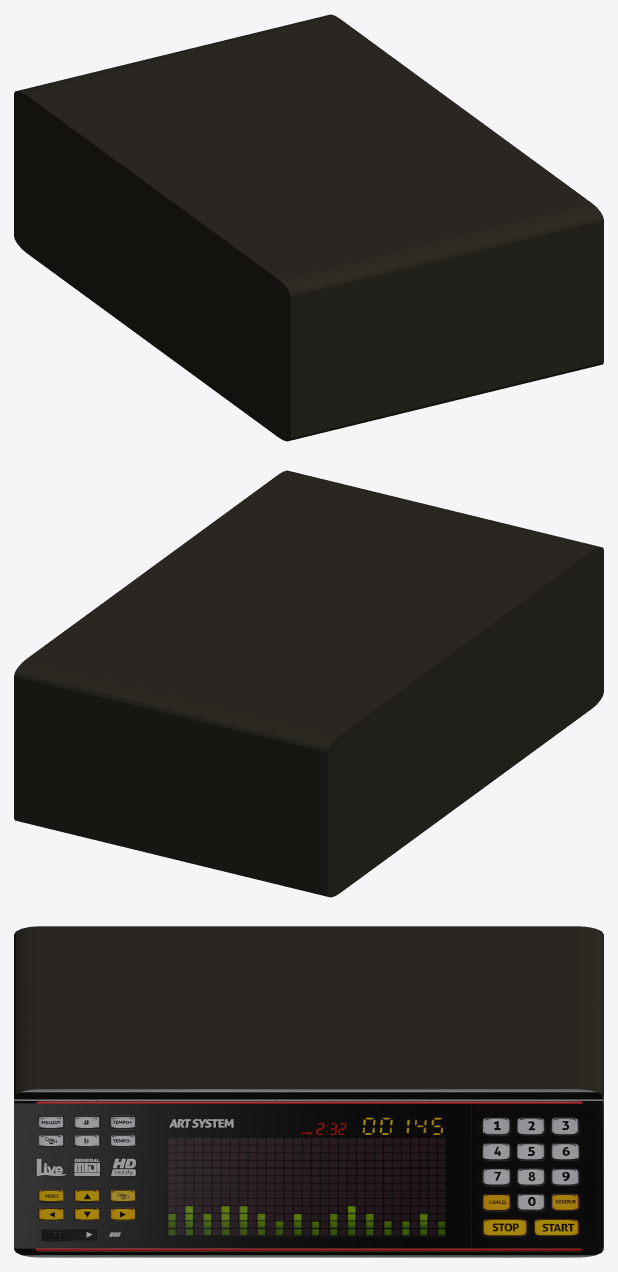
Rendered from karaoke_machine.fbx.
3 renders of one model, top to bottom at view 1: azimuth 30°, elevation 25°; view 2: azimuth 150°, elevation 25°; view 3: azimuth 270°, elevation 25°, orthographic. The views are drawn at different scales.
Visible parts, largest first — view 1: karaoke_machine; view 2: karaoke_machine; view 3: karaoke_machine.
Boxes of the visible parts, bbox=[...] form: karaoke_machine: bbox=[14, 14, 603, 441]; karaoke_machine: bbox=[14, 470, 603, 897]; karaoke_machine: bbox=[14, 926, 603, 1257].
Bounding box in the file's own units: 18.75 × 9.03 × 28.68.
2 materials, 1 textured.
